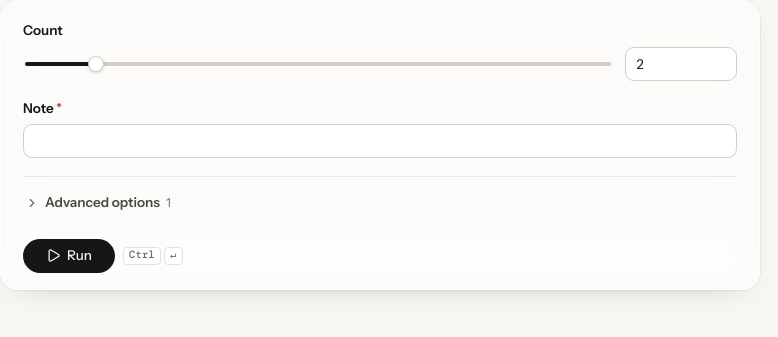
Test: tool form validation › flags an edited field as soon as it is invalid and blocks Run
Expected: the text "Must be at least 1" is not shown
Replace the text in the number field labelled "Count" with "0". click: (681, 64)
box: [625,47,737,81]
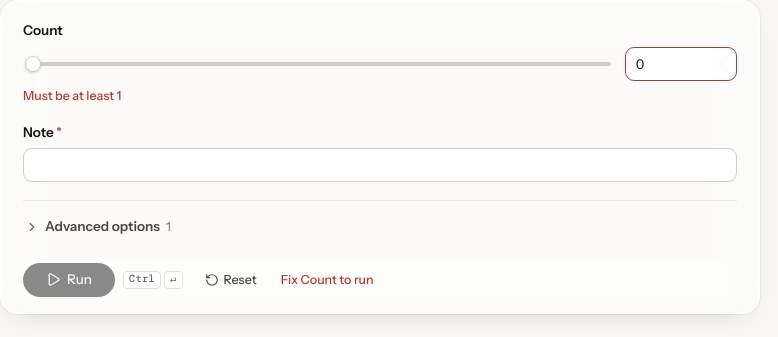
Expected: the text "Must be at least 1" is shown, [23,88,121,103]
Expected: the button "Run" is disabled, [23,263,115,297]
Expected: the text "Fix Count to run" is shown, [281,271,374,289]
Replace the text in the number field labelled "Count" with "3". click: (681, 64)
box: [625,47,737,81]
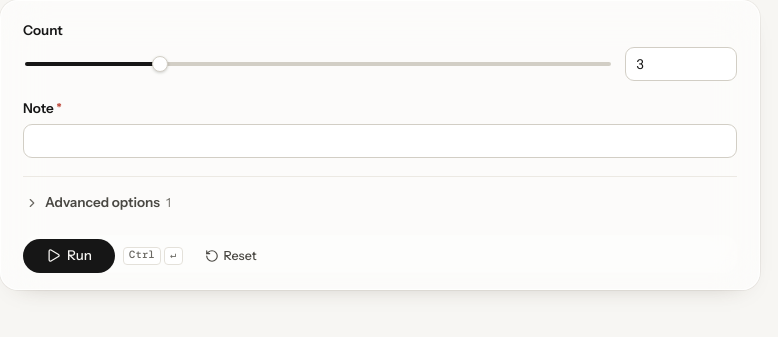
Expected: the button "Run" is enabled, [23,239,115,273]
